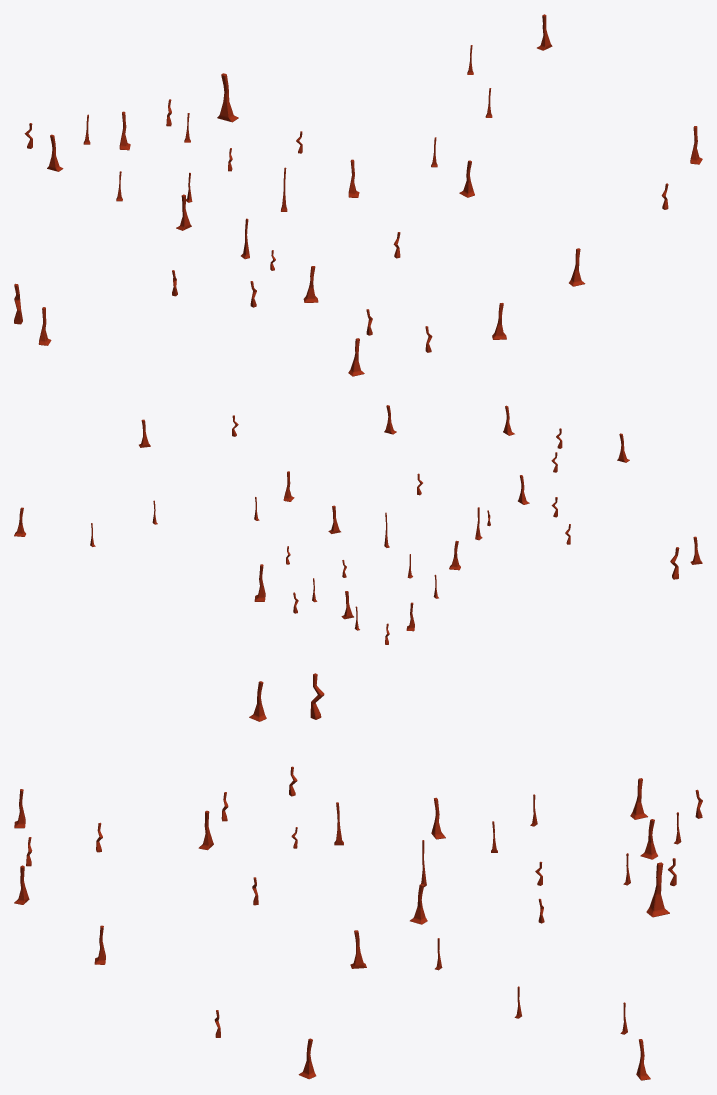
The model's file is wood.obj.
3 renders of one model, top to bottom at view 1: azimuth 30°, elevation 25°; view 2: azimuth 150°, elevation 25°; view 3: azimuth 270°, elevation 25°, orthographic. The views are drawn at different scales.
Size of the model in its own units: 778 by 48.65 by 619.
